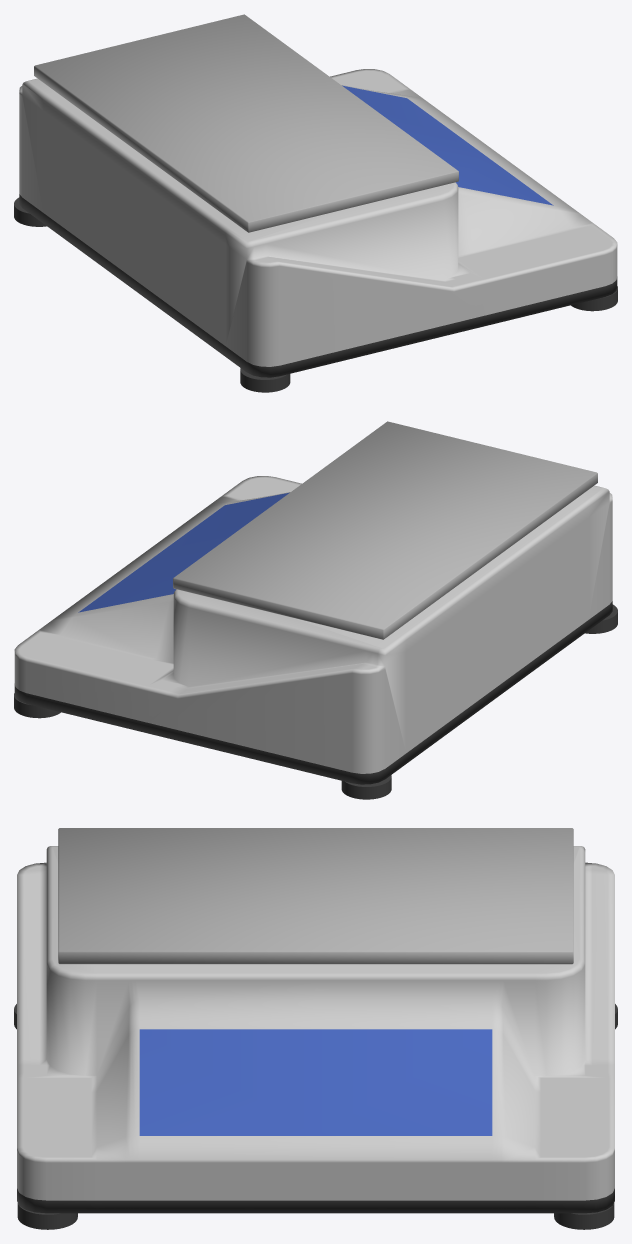
File: Alat_Timbangan Digital_Dayat.fbx
3 renders of one model, top to bottom at view 1: azimuth 30°, elevation 25°; view 2: azimuth 150°, elevation 25°; view 3: azimuth 270°, elevation 25°, orthographic. The views are drawn at different scales.
Parts seen in each view (by area): view 1: alat_Timbangan Digital_Dayat.001; view 2: alat_Timbangan Digital_Dayat.001; view 3: alat_Timbangan Digital_Dayat.001.
Part boxes in pixels (bbox=[...]): alat_Timbangan Digital_Dayat.001: bbox=[14, 14, 617, 392]; alat_Timbangan Digital_Dayat.001: bbox=[14, 421, 617, 799]; alat_Timbangan Digital_Dayat.001: bbox=[14, 828, 617, 1229].
Bounding box in the file's own units: 44.84 × 18.18 × 52.4.
